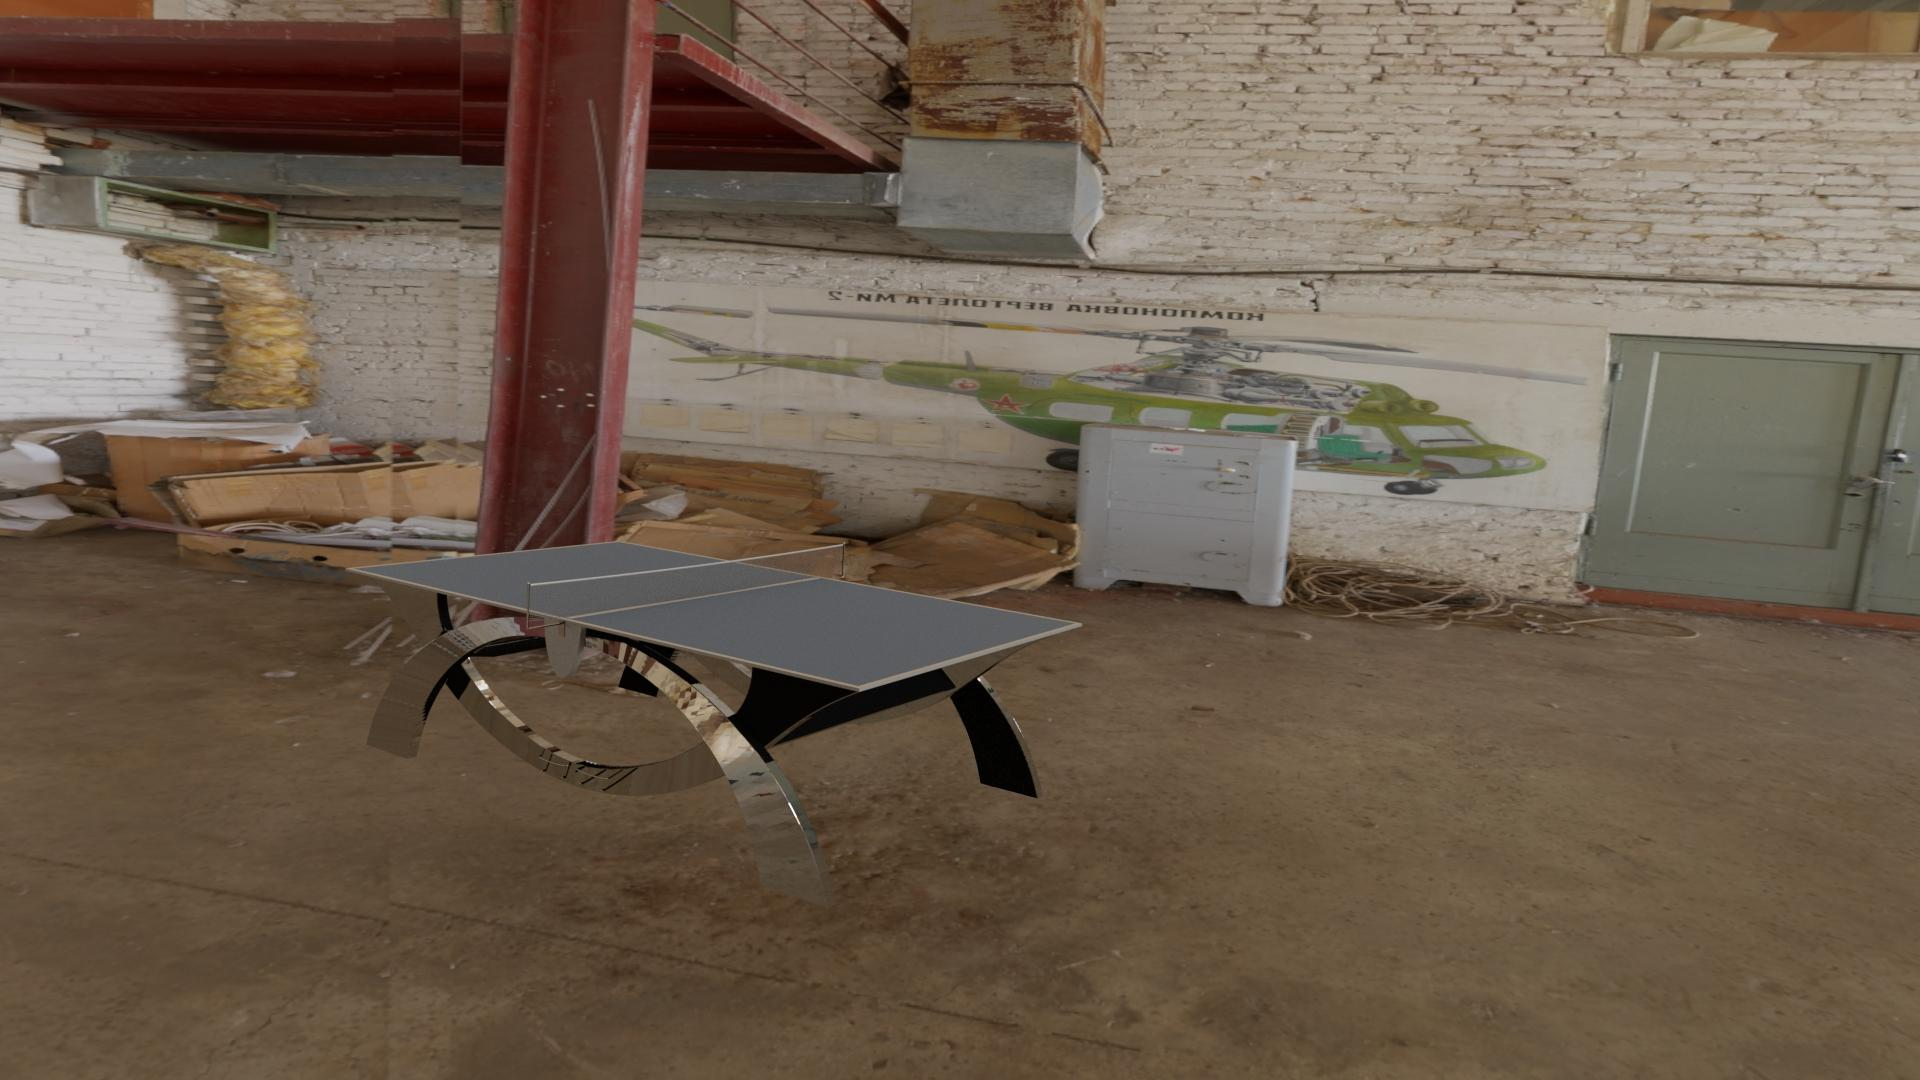table: (352, 542, 1076, 686)
